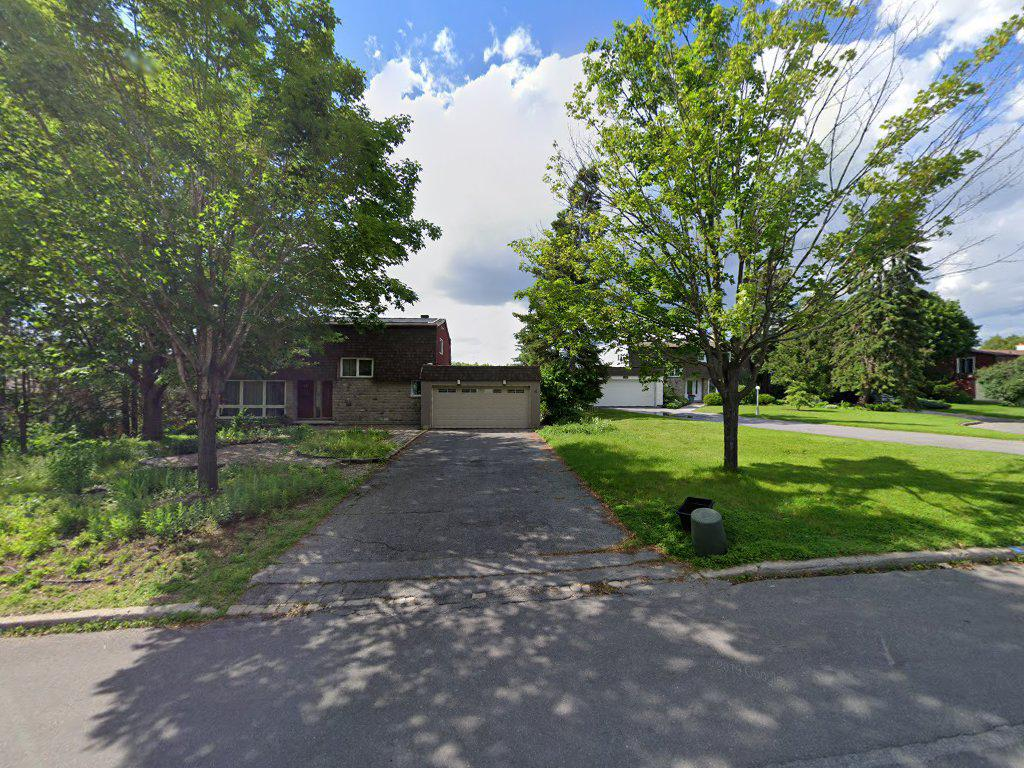trunk: (171, 331, 238, 527)
